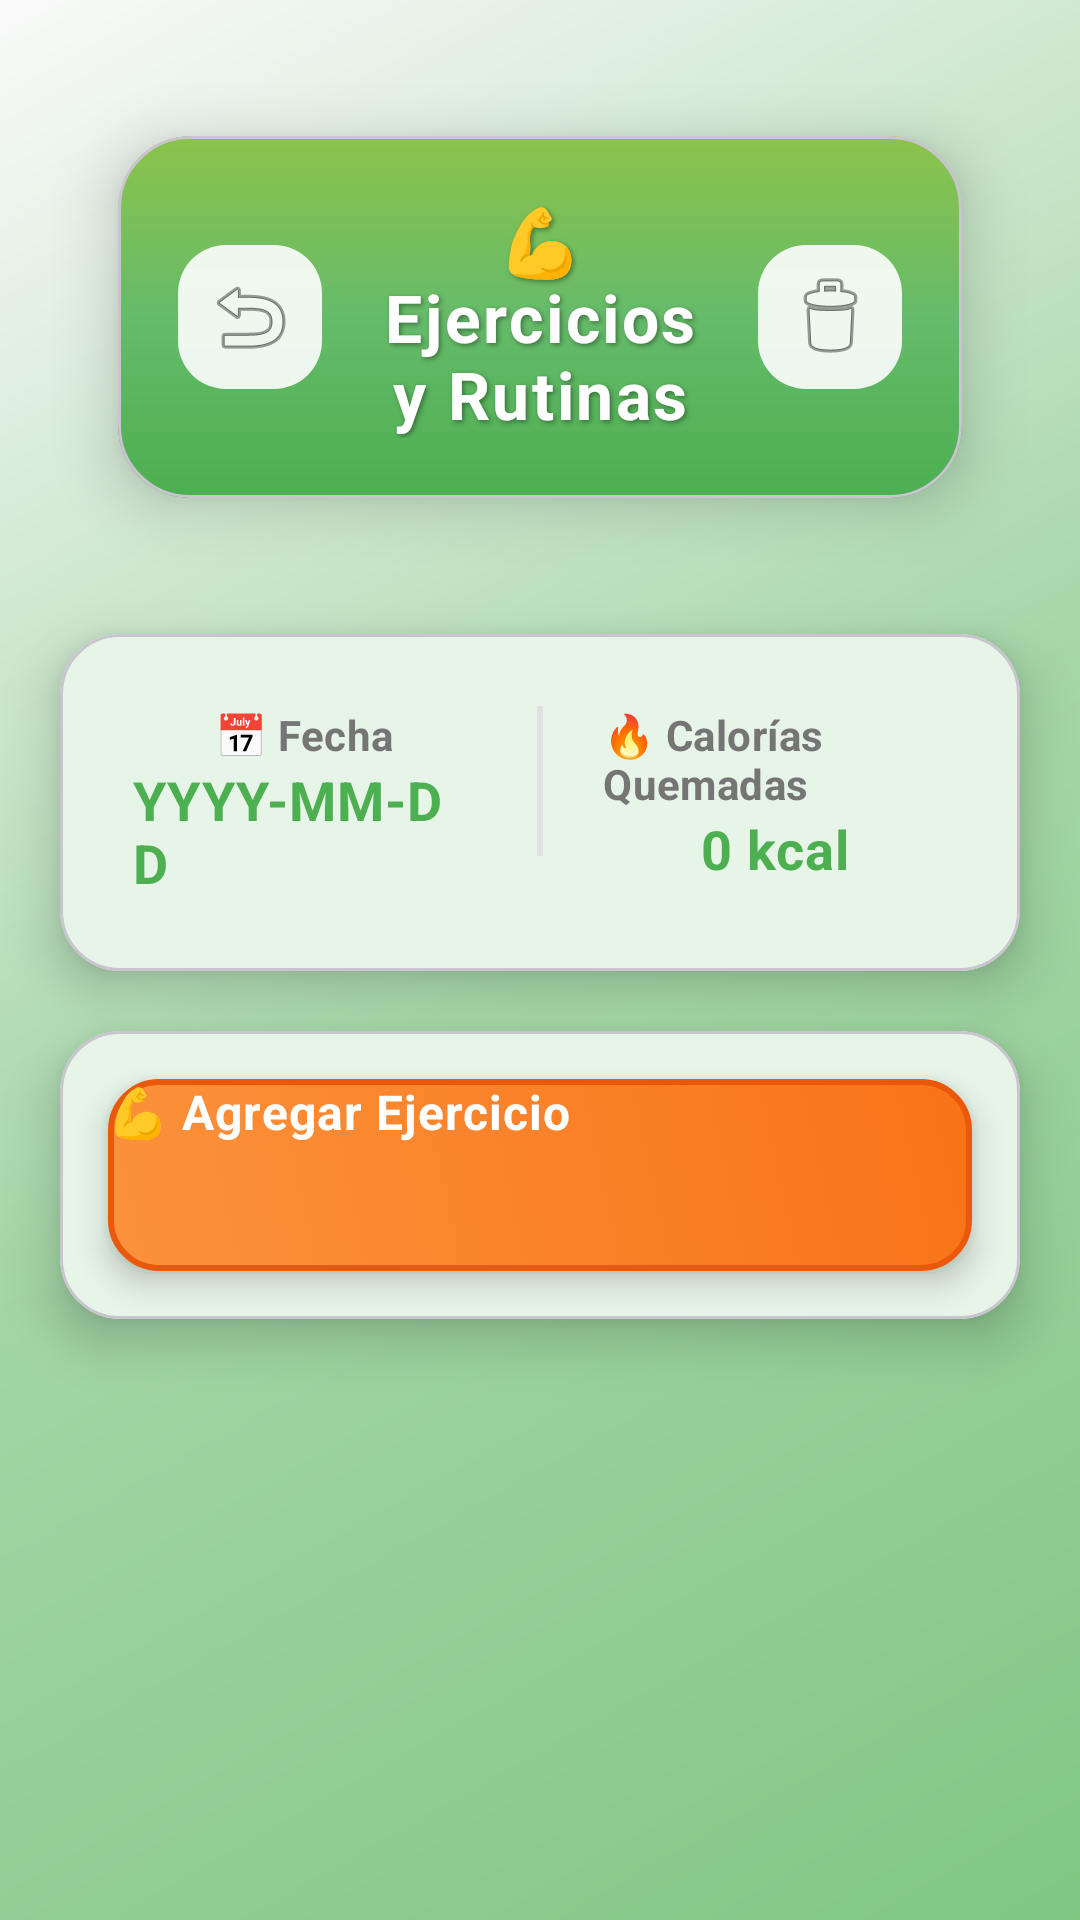

Point at icon controls on the screen. Image size 1080w x 1920h, points as [x,y].
Limpiar Ejercicios: [830,317]
Volver: [250,317]
